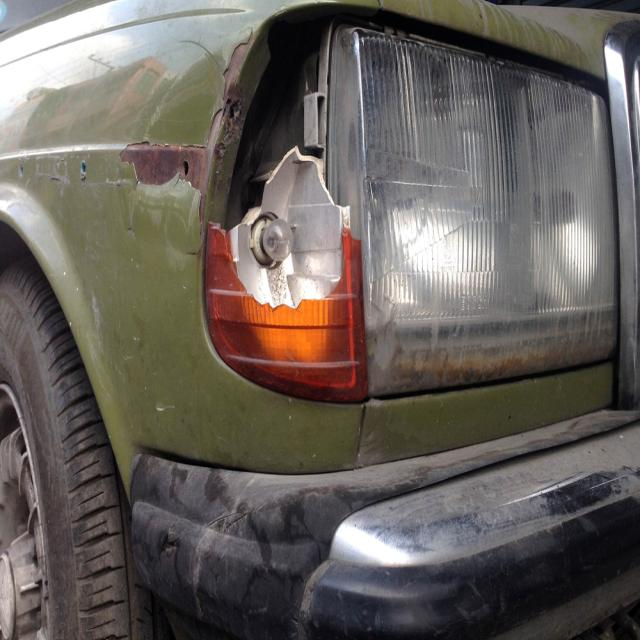lamp broken: (208, 12, 617, 401)
